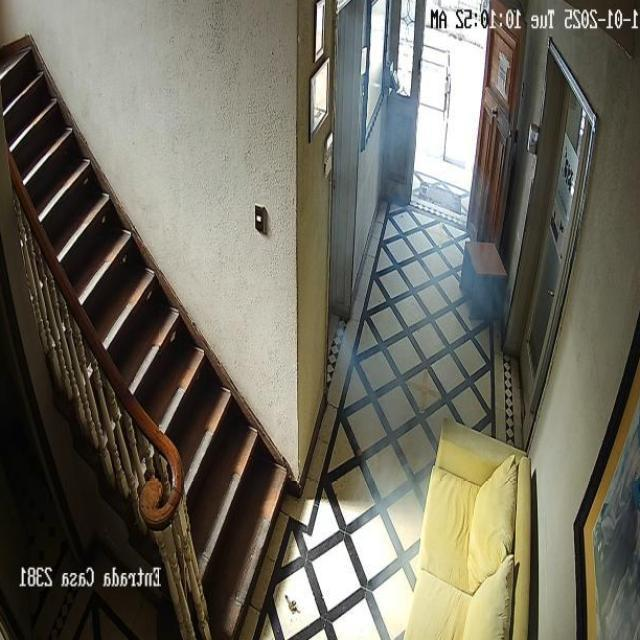fire: (330, 1, 511, 622)
